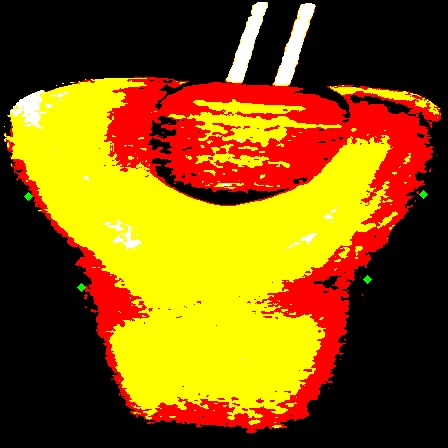coin_1: (81, 287, 101, 307)
coin_2: (28, 196, 48, 216)
coin_3: (367, 279, 387, 299)
coin_4: (423, 194, 443, 214)
